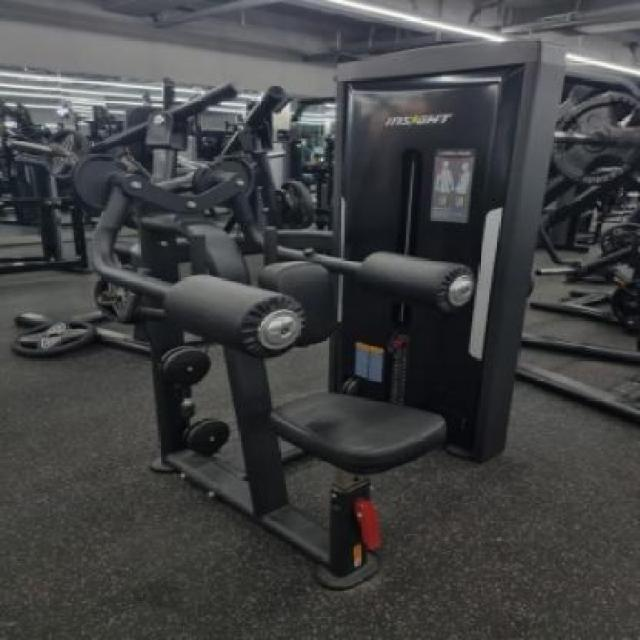lateral raises machine: (68, 158, 548, 592)
